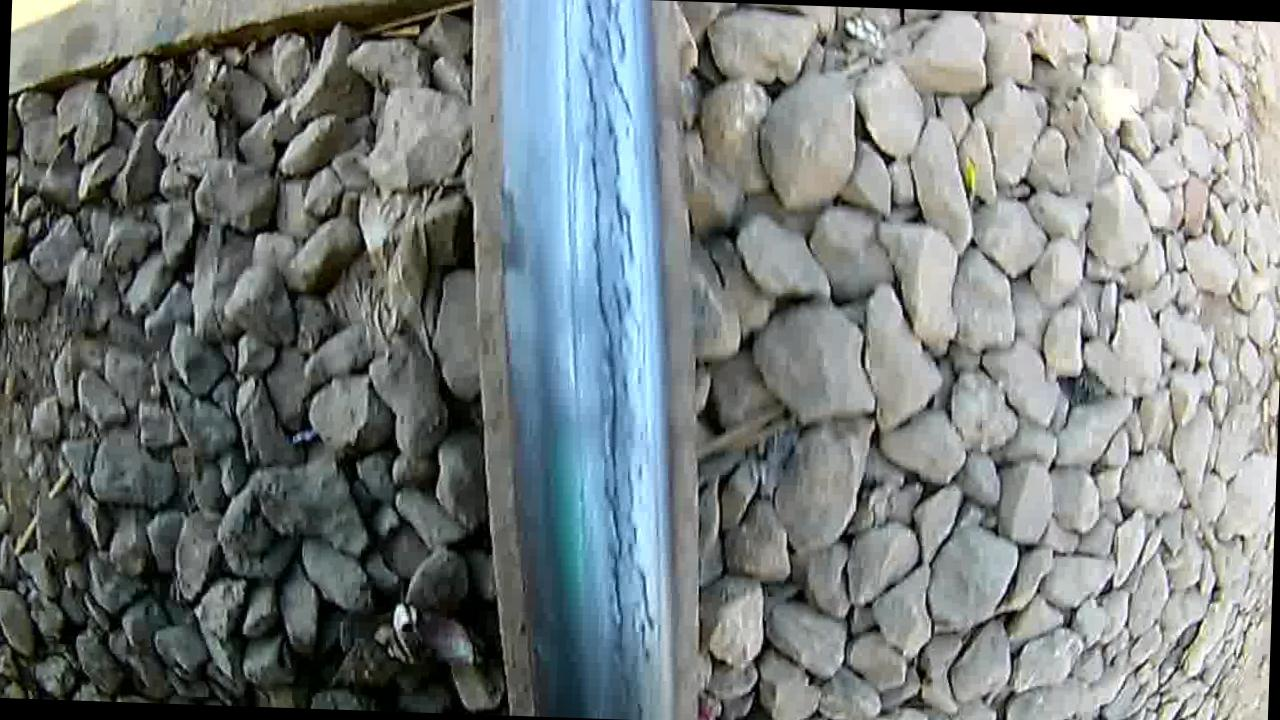normal_track: (542, 0, 678, 713)
